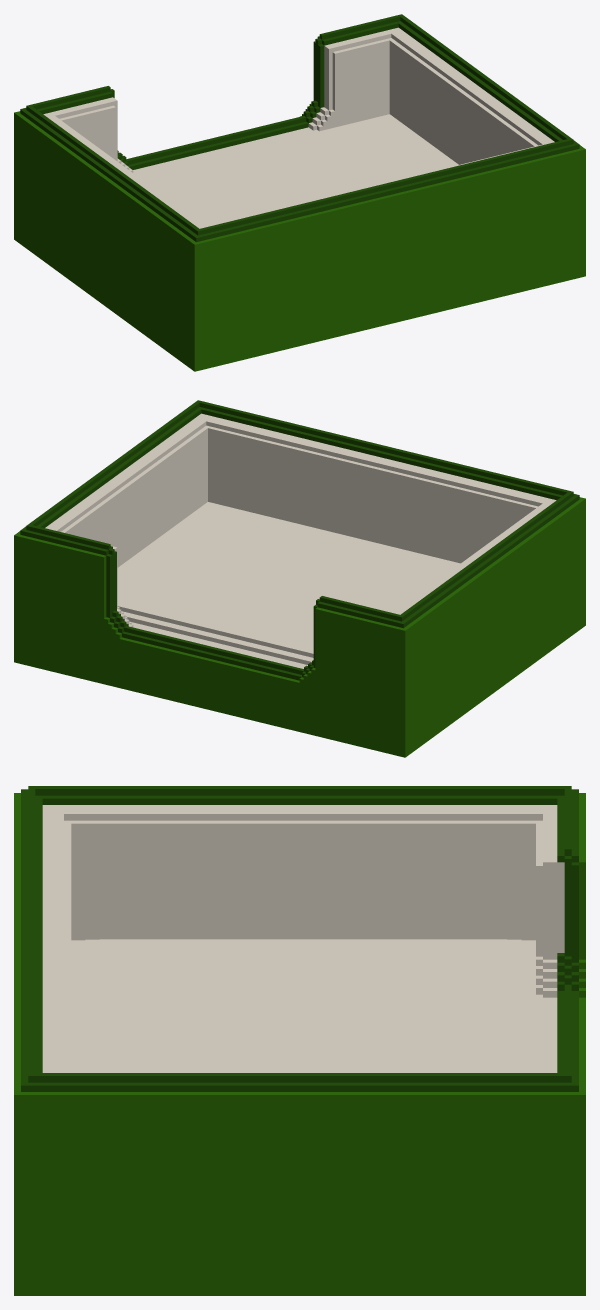
The model's file is Dog bed.obj.
The picture shows the model from 3 angles, top to bottom: view 1: azimuth 30°, elevation 25°; view 2: azimuth 150°, elevation 25°; view 3: azimuth 270°, elevation 25°; orthographic projection. The views are drawn at different scales.
Size of the model in its own units: 10 by 3.3 by 8.
1 material, 1 textured.
